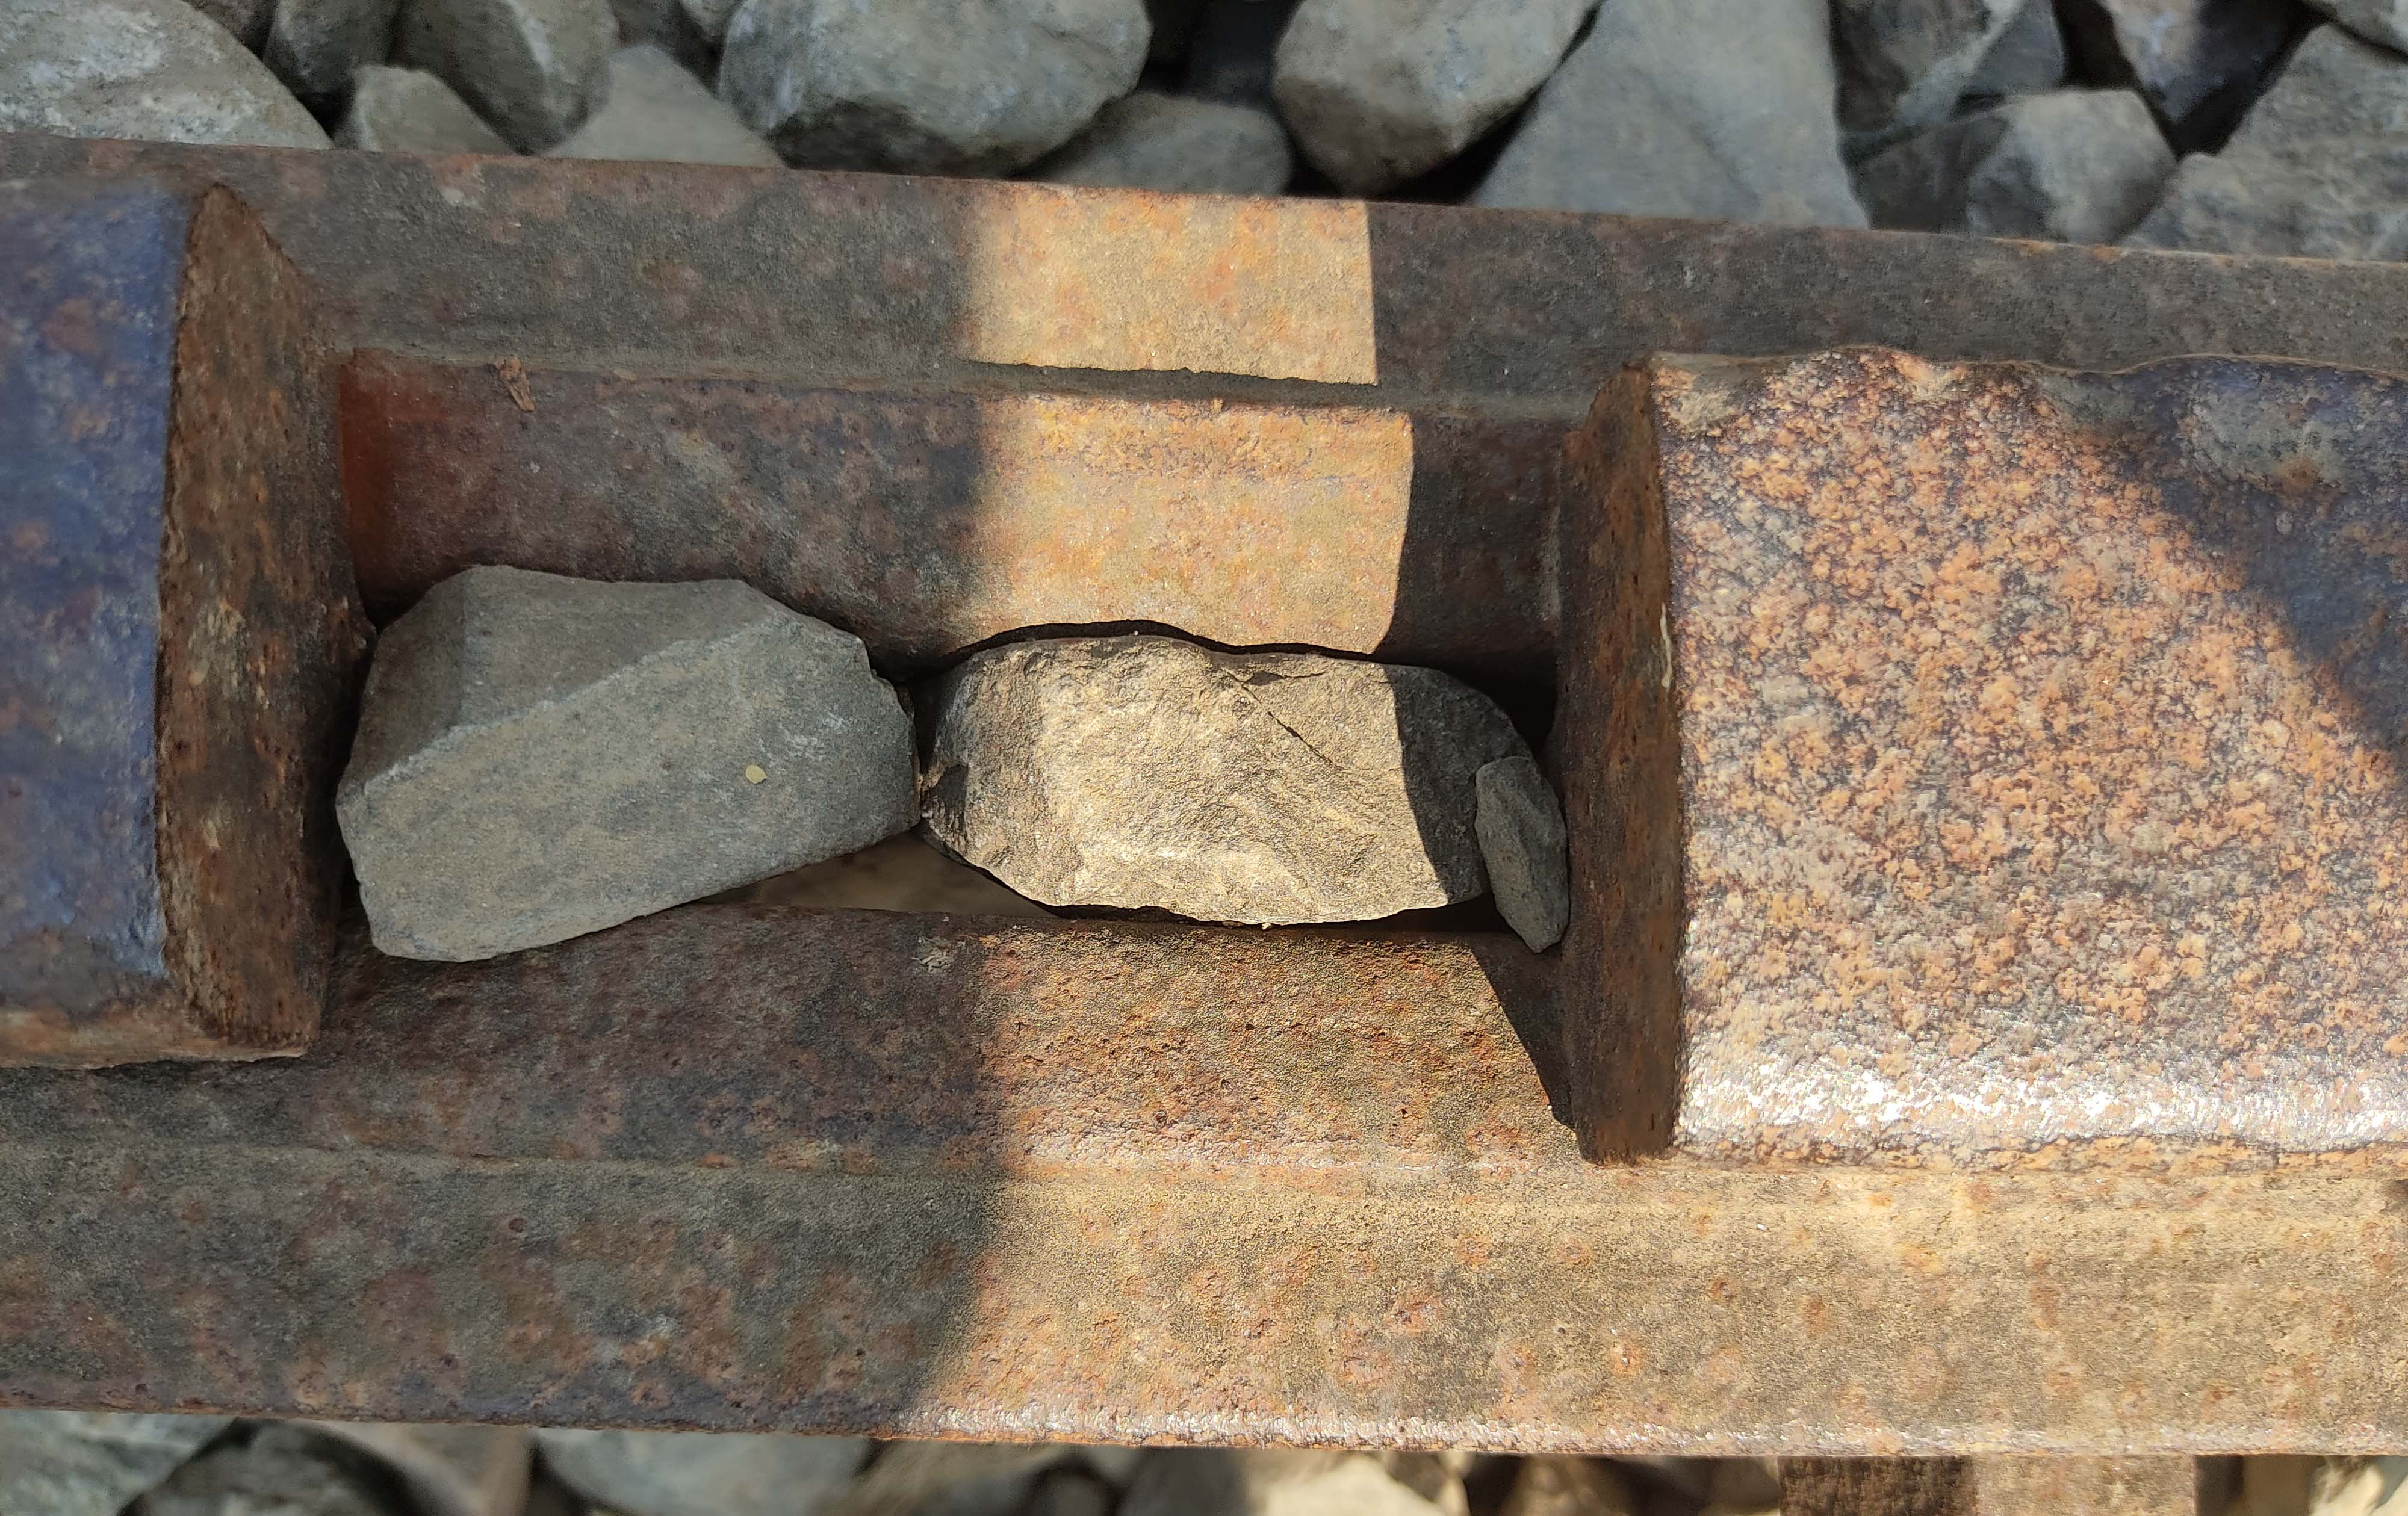error2: (129, 157, 1703, 1202)
